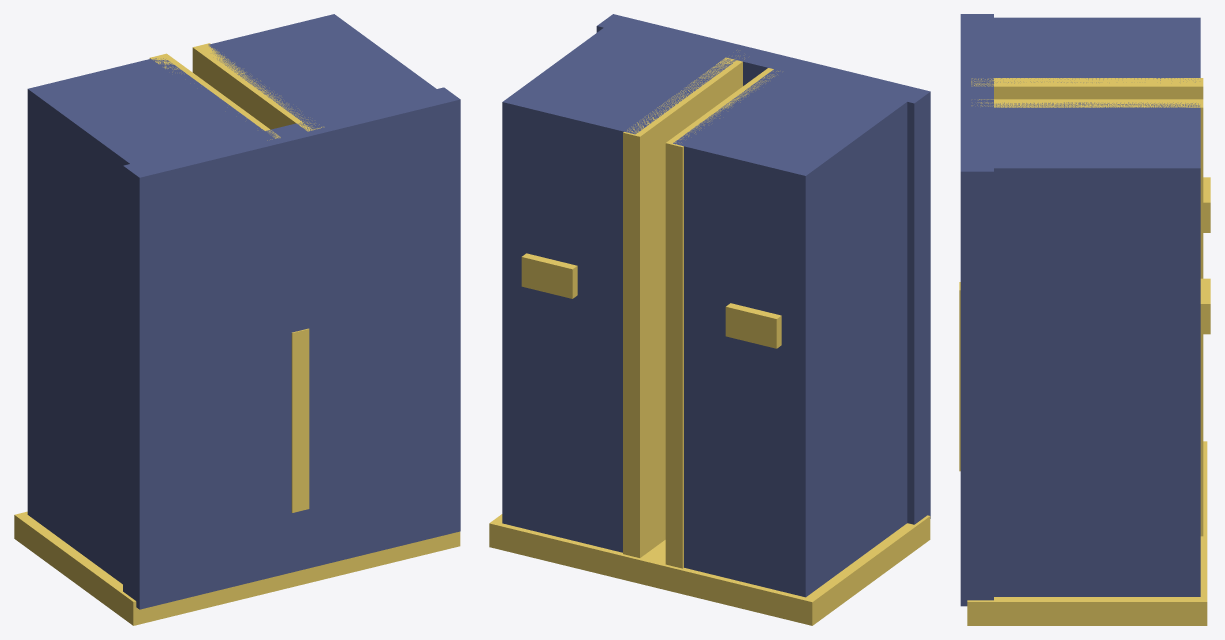
The model's file is casaco_capitao_saia.glb.
3 views of the same model, side by side, from view 1: azimuth 30°, elevation 25°; view 2: azimuth 150°, elevation 25°; view 3: azimuth 270°, elevation 25° (orthographic).
Visible parts, largest first — view 1: casaco_capitao_saia; view 2: casaco_capitao_saia; view 3: casaco_capitao_saia.
Boxes of the visible parts, x1,y1,x2,y2 form: casaco_capitao_saia: [14, 14, 460, 625]; casaco_capitao_saia: [489, 14, 930, 625]; casaco_capitao_saia: [959, 14, 1210, 625].
Size of the model in its own units: 0.57 by 0.75 by 0.377.
